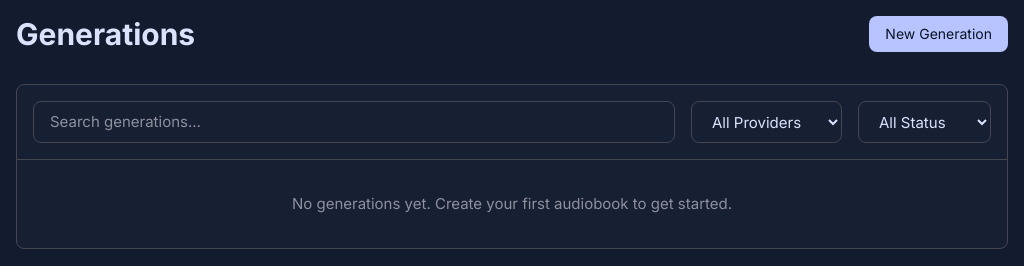
it: Generations Page - Search and Provider Filter › shows 'No results' empty state when search returns 0 items
This screenshot has width=1024, height=266.
// Set a search term so hasActiveFilters is true
Type "nonexistent" into the field with placeholder "Search generations...".
click(354, 122); type("nonexistent")  # box [33, 101, 675, 143]
Wait 300 ms
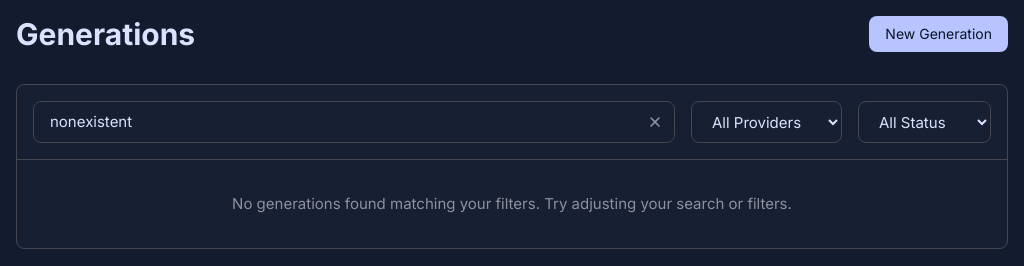
Check: the text "No generations found" is shown, box [232, 194, 792, 213]
